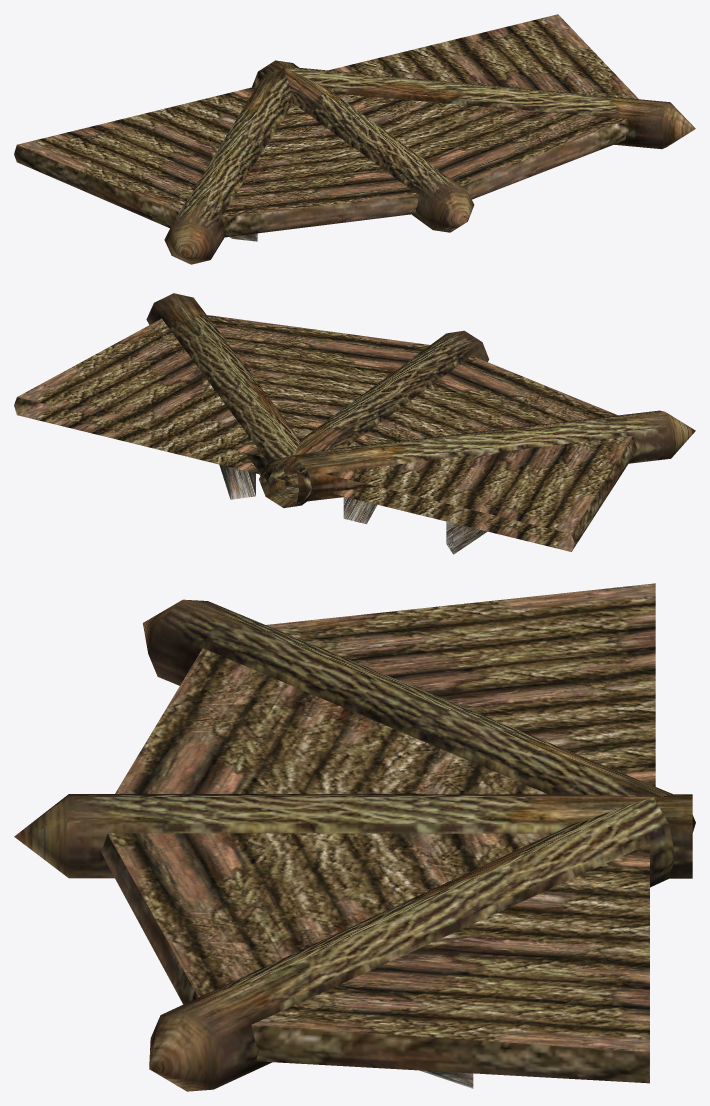
Rendered from hrz88.glb.
3 renders of one model, top to bottom at view 1: azimuth 30°, elevation 25°; view 2: azimuth 150°, elevation 25°; view 3: azimuth 270°, elevation 25°, orthographic. The views are drawn at different scales.
Parts seen in each view (by area): view 1: hrz88-col; view 2: hrz88-col; view 3: hrz88-col.
Boxes of the visible parts, box(x1,y1,x2,y2) form: hrz88-col: box(14, 14, 695, 264); hrz88-col: box(14, 293, 695, 554); hrz88-col: box(14, 583, 695, 1091).
Size of the model in its own units: 9 by 1.71 by 5.47.
Materials: 3 (3 with a texture image).
